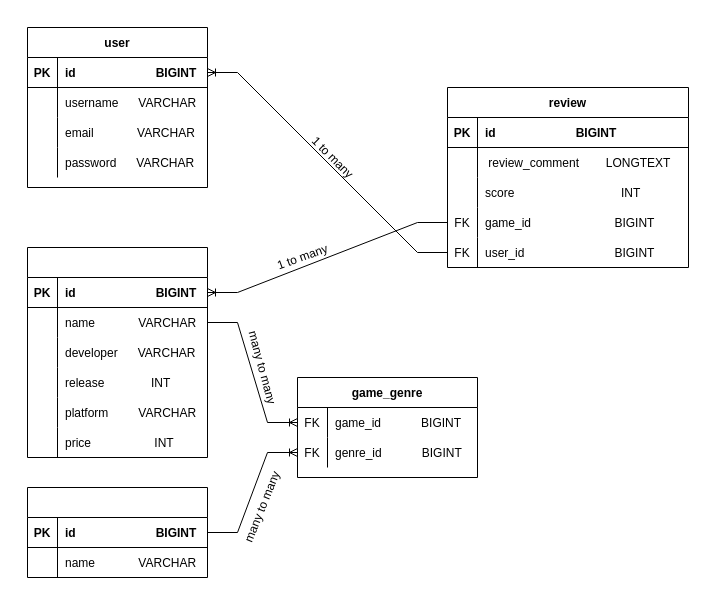
Image size: 714x604. Some labels were removed from this diagram. Here are the shapes that lost their labels. From the top down, the box of each, then its label:
(26, 246, 208, 458): game
(26, 486, 208, 578): gamegenre
